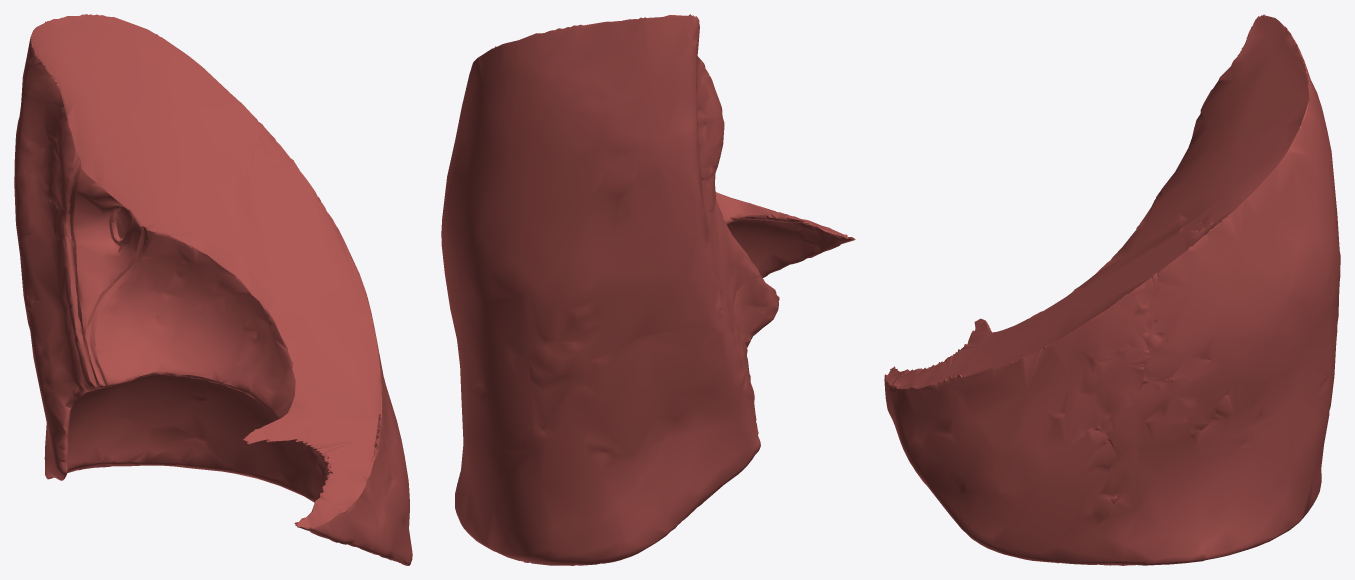
The model's file is lung1.fbx.
3 views of the same model, side by side, from view 1: azimuth 30°, elevation 25°; view 2: azimuth 150°, elevation 25°; view 3: azimuth 270°, elevation 25° (orthographic). The views are drawn at different scales.
Visible parts, largest first — view 1: mesh; view 2: mesh; view 3: mesh.
Boxes of the visible parts, x1,y1,x2,y2 form: mesh: (14,14,412,565); mesh: (441,14,855,565); mesh: (884,14,1340,565).
Bounding box in the file's own units: 109 × 193 × 178.
